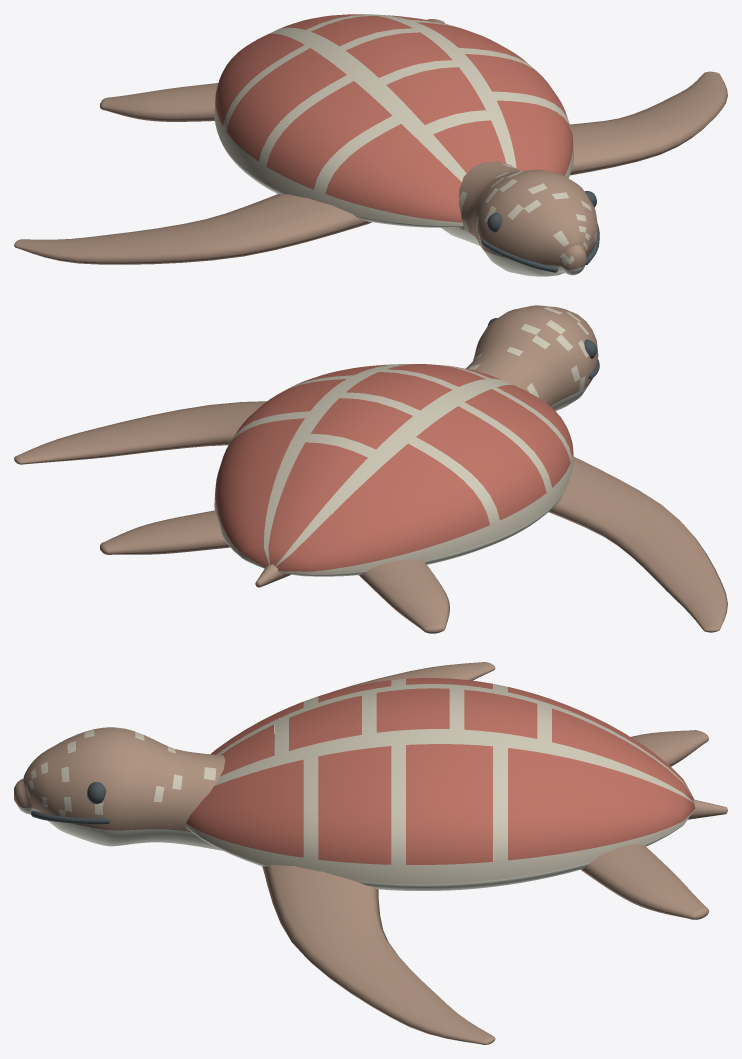
File: reindeer.glb
The picture shows the model from 3 angles, top to bottom: view 1: azimuth 30°, elevation 25°; view 2: azimuth 150°, elevation 25°; view 3: azimuth 270°, elevation 25°; orthographic projection. The views are drawn at different scales.
Parts seen in each view (by area): view 1: loggerhead-turtle; view 2: loggerhead-turtle; view 3: loggerhead-turtle.
Boxes of the visible parts, left/top/right/bottom form: loggerhead-turtle: left=14, top=14, right=727, bottom=276; loggerhead-turtle: left=14, top=305, right=727, bottom=633; loggerhead-turtle: left=14, top=662, right=727, bottom=1044.
Bounding box in the file's own units: 1.39 × 0.2629 × 1.1.
